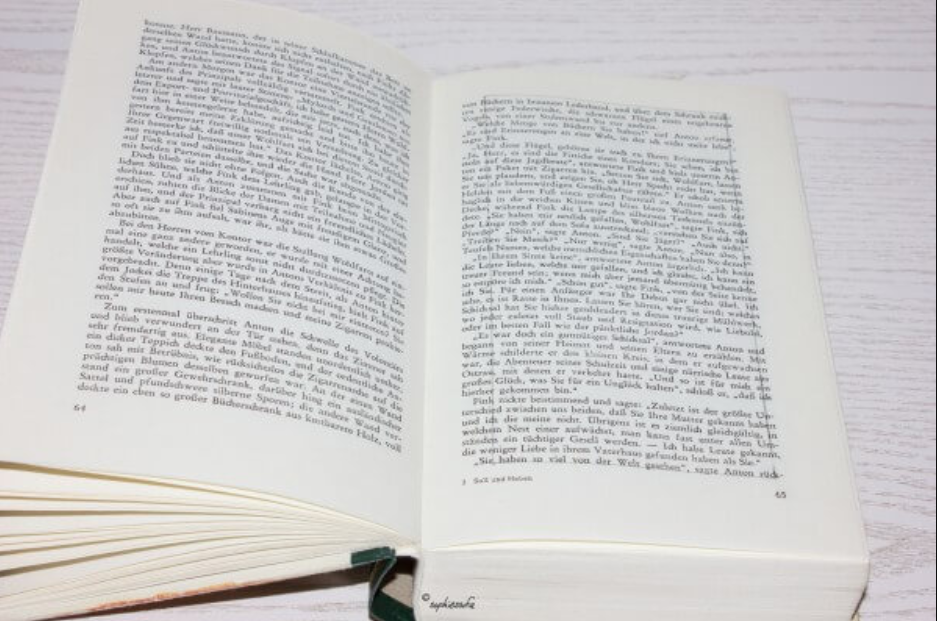book: (7, 1, 875, 620)
